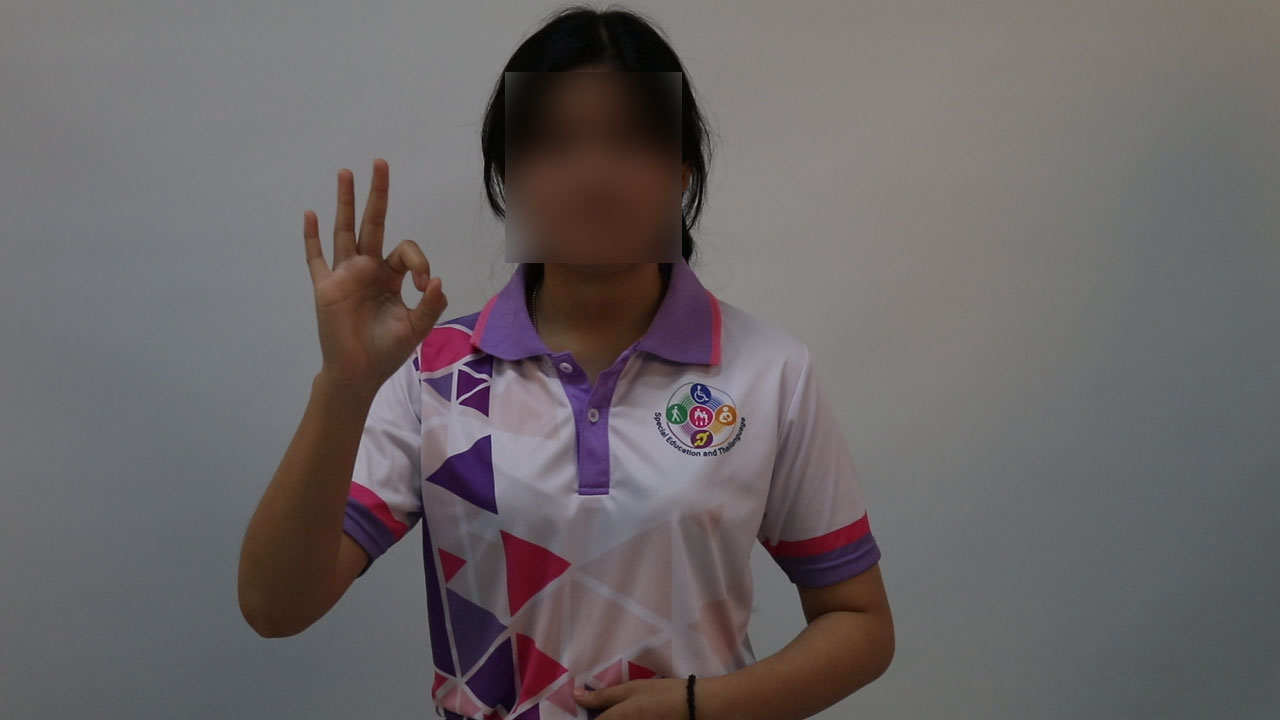for: (281, 149, 455, 396)
